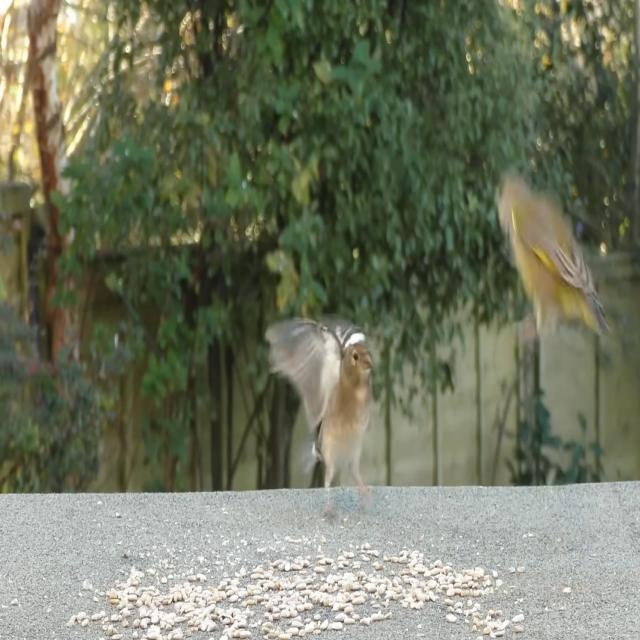beak: (361, 351, 374, 369)
bird: (262, 317, 384, 517), (490, 170, 615, 348)
